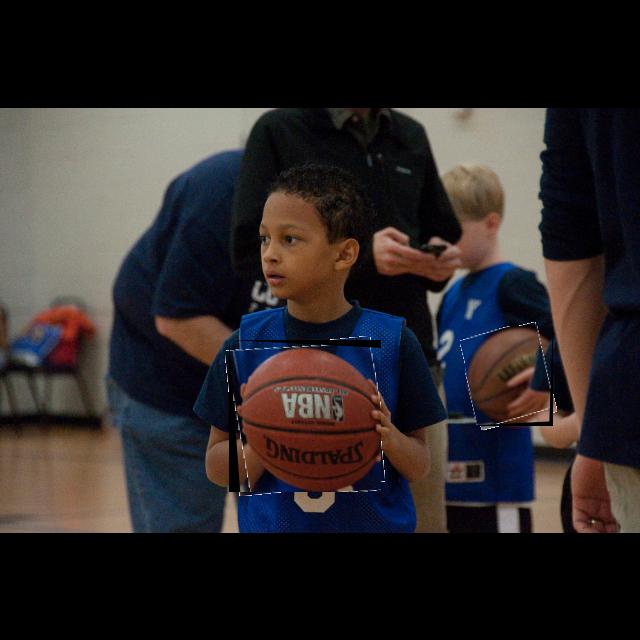Football: (229, 340, 381, 492), (465, 326, 553, 426)
